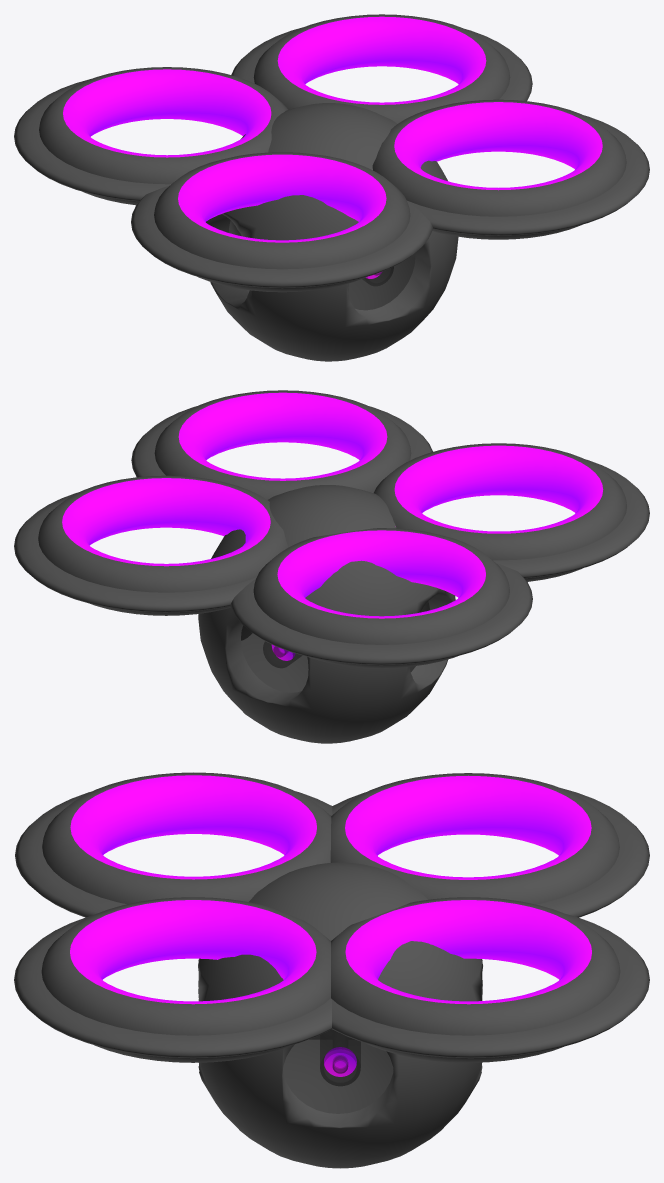
The model's file is drone2.glb.
The picture shows the model from 3 angles, top to bottom: view 1: azimuth 30°, elevation 25°; view 2: azimuth 150°, elevation 25°; view 3: azimuth 270°, elevation 25°; orthographic projection. The views are drawn at different scales.
Visible parts, largest first — view 1: Drone 2; view 2: Drone 2; view 3: Drone 2.
Boxes of the visible parts, x1,y1,x2,y2 form: Drone 2: (14,14,649,361); Drone 2: (14,390,649,743); Drone 2: (14,772,649,1168).
Bounding box in the file's own units: 13.16 × 6.17 × 12.82.
